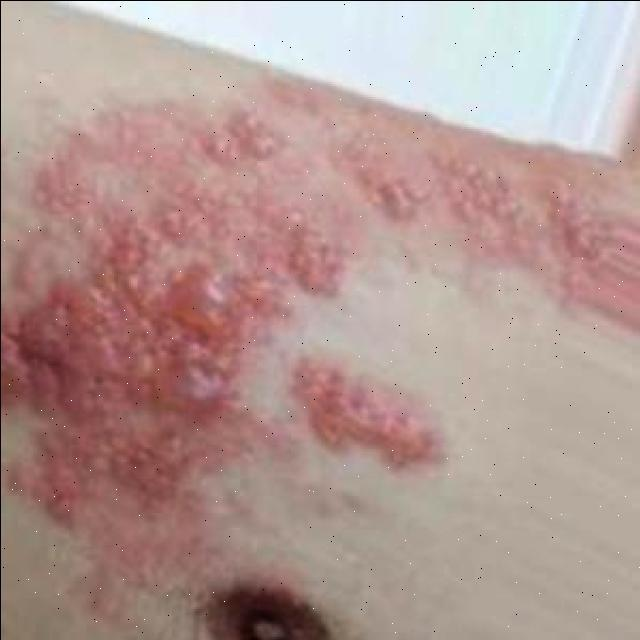Shingles: (0, 110, 640, 528)
